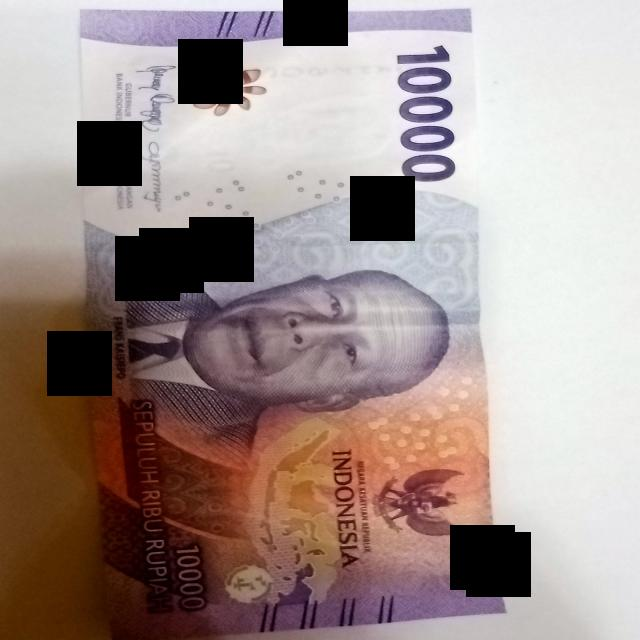sepuluhribu rupiah: (80, 9, 503, 640)
